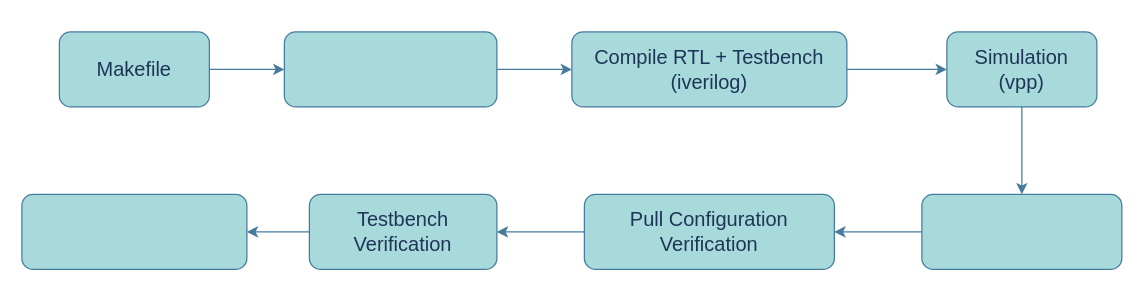
The diagram is 1144 pixels wide and 291 high, and some of its shapes have lost their labels. The shapes that lost their labels are listed below. From the top down, each one's box as (x1, y1, x2, y2) in pixels, then its label:
(283, 31, 497, 107): Compile firmware (.c -> .hex)
(21, 193, 247, 269): PASS/FAIL Result
(921, 193, 1122, 269): PULLUPDOWN DUT
